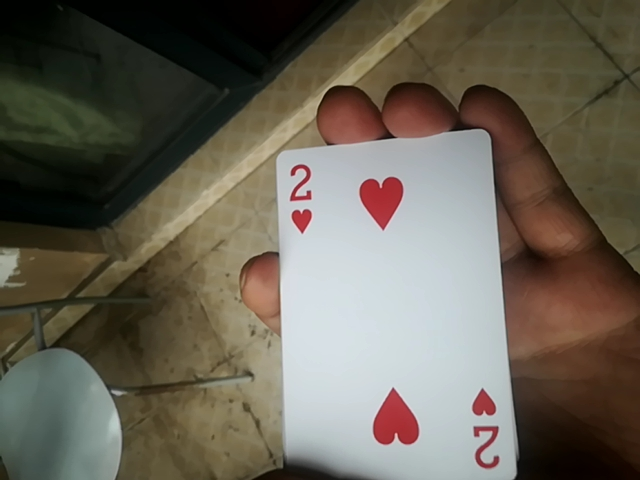hx 2: (269, 132, 513, 480)
